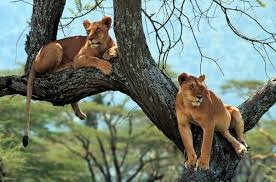lion: (15, 13, 118, 148), (173, 70, 252, 171)
